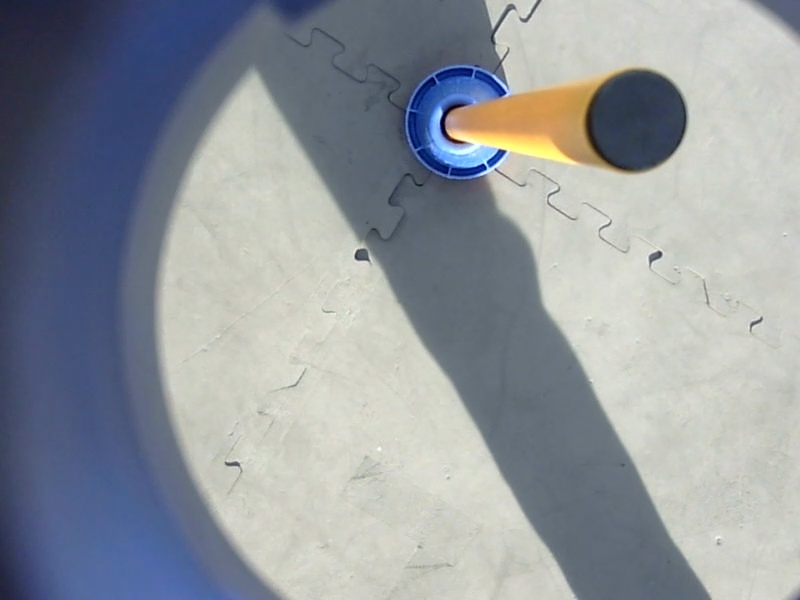tip: (578, 60, 695, 180)
